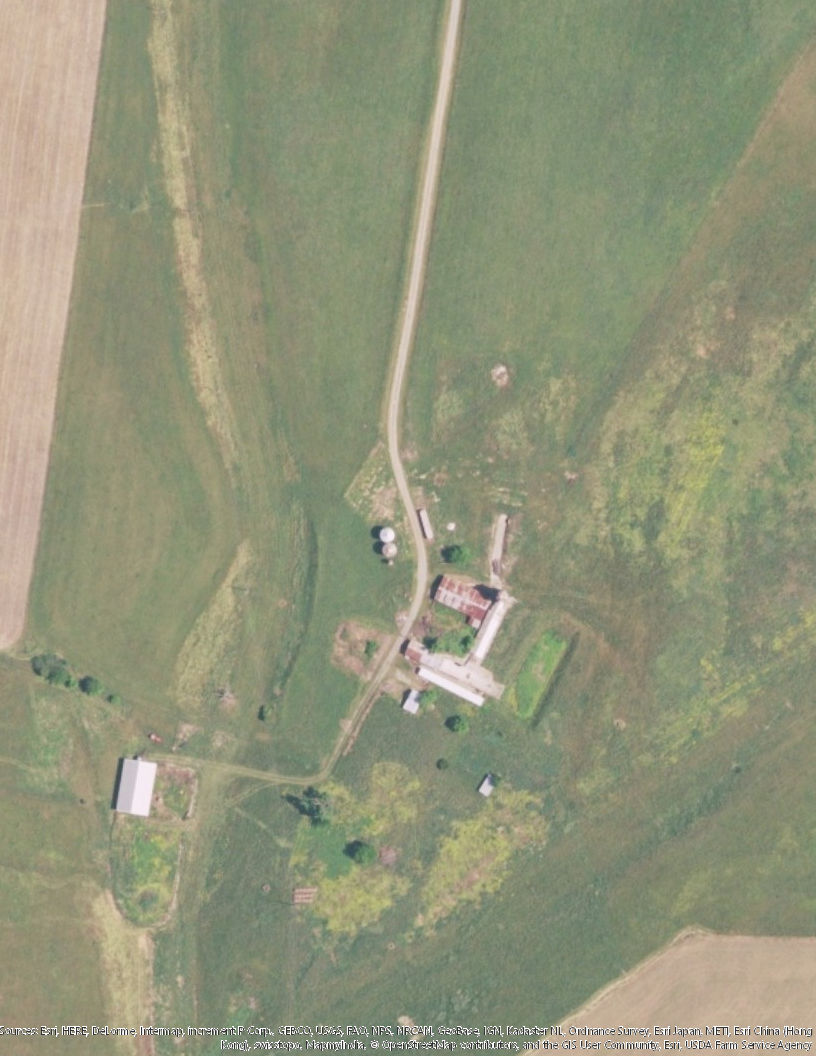cafo: (415, 645, 504, 710), (430, 571, 500, 622), (467, 597, 514, 661)
